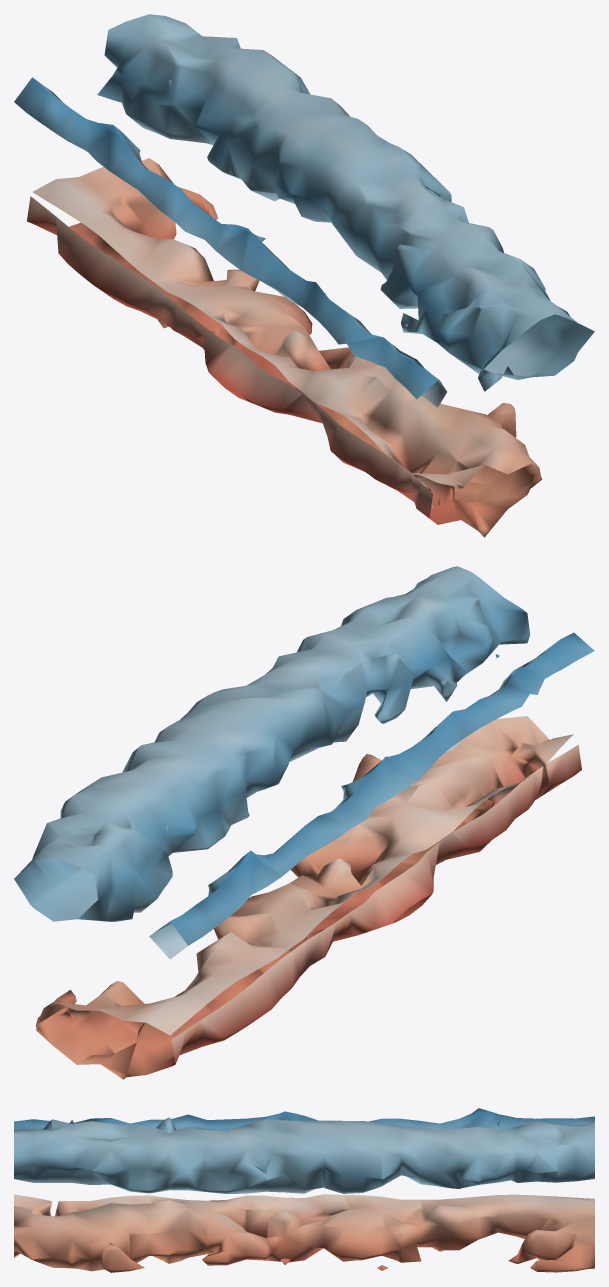
The picture shows the model from 3 angles, top to bottom: view 1: azimuth 30°, elevation 25°; view 2: azimuth 150°, elevation 25°; view 3: azimuth 270°, elevation 25°; orthographic projection. The views are drawn at different scales.
Size of the model in its own units: 0.7634 by 0.7647 by 2.5.
